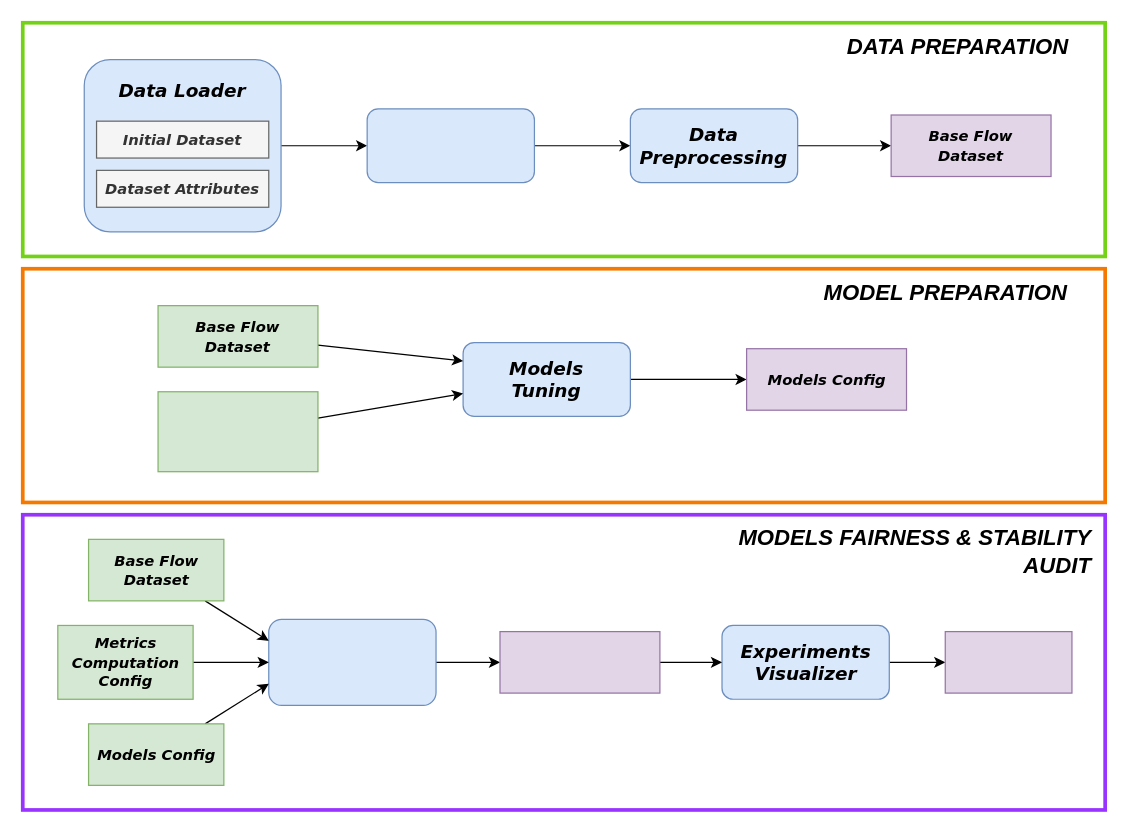
Some shapes in this 1128 by 833 pixel diagram are drawn without their labels. Here are the shapes that lost their labels. From the top down, the centre of each, then its label:
At (450,145): "Error Injection".
At (237,431): "Models and Hyperparams for Tuning".
At (352,661): "Metrics Computation by Virny".
At (579,661): "Fairness and Stability Metrics".
At (1008,661): "Visualizations".
